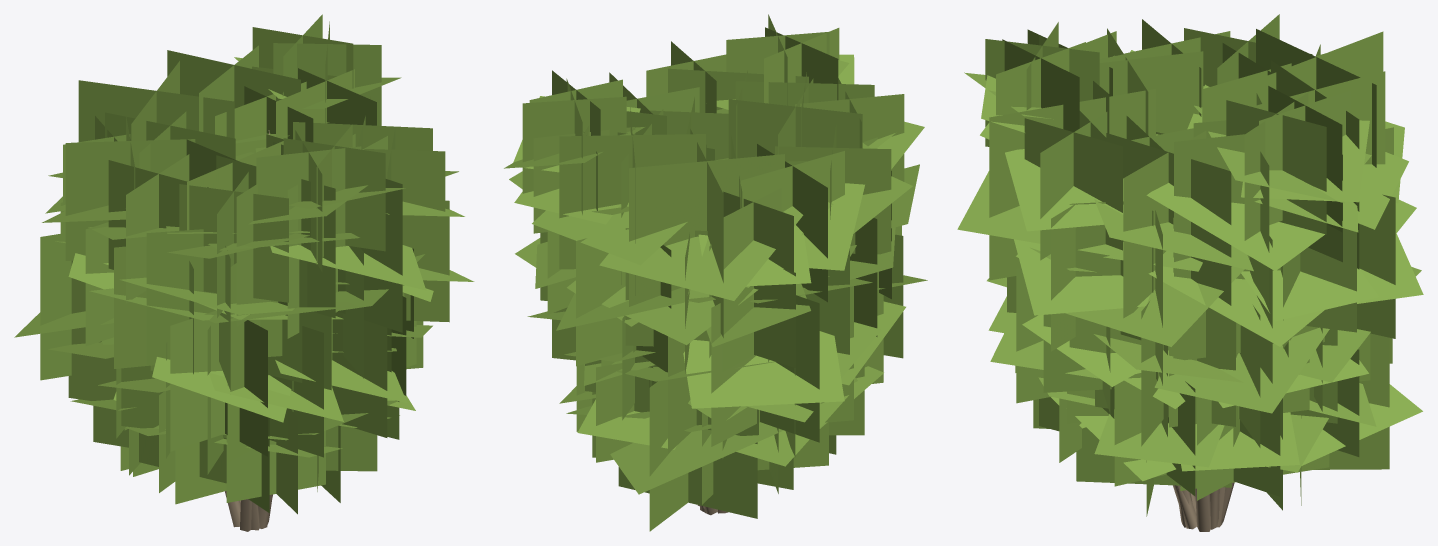
Rendered from noisetier_4_f2_loin.glb.
3 views of the same model, side by side, from view 1: azimuth 30°, elevation 25°; view 2: azimuth 150°, elevation 25°; view 3: azimuth 270°, elevation 25° (orthographic). The views are drawn at different scales.
Parts seen in each view (by area): view 1: Noisetier_T4_f2_Leger_Loin; view 2: Noisetier_T4_f2_Leger_Loin; view 3: Noisetier_T4_f2_Leger_Loin.
Boxes of the visible parts, left/top/right/bottom form: Noisetier_T4_f2_Leger_Loin: left=14, top=14, right=474, bottom=531; Noisetier_T4_f2_Leger_Loin: left=504, top=14, right=927, bottom=531; Noisetier_T4_f2_Leger_Loin: left=957, top=14, right=1423, bottom=531.
Size of the model in its own units: 6.45 by 7.19 by 6.44.
